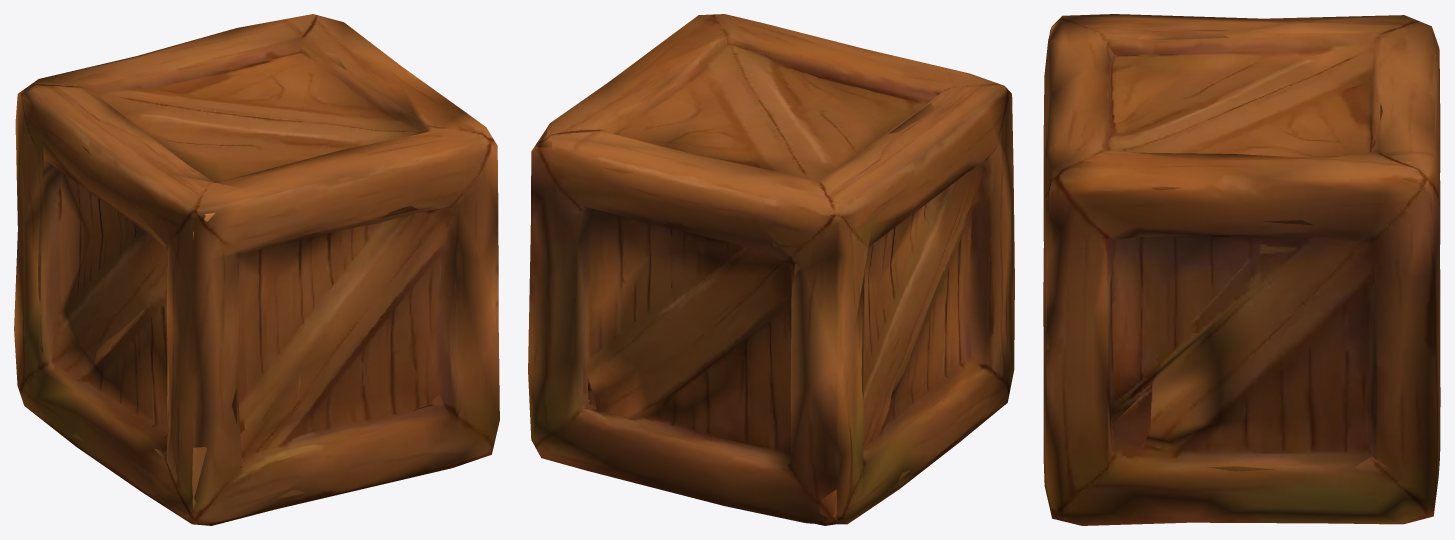
File: crate.glb
3 views of the same model, side by side, from view 1: azimuth 30°, elevation 25°; view 2: azimuth 150°, elevation 25°; view 3: azimuth 270°, elevation 25° (orthographic). The views are drawn at different scales.
Visible parts, largest first — view 1: geometry_0; view 2: geometry_0; view 3: geometry_0.
Boxes of the visible parts, left/top/right/bottom form: geometry_0: left=14, top=14, right=499, bottom=525; geometry_0: left=528, top=14, right=1014, bottom=525; geometry_0: left=1043, top=14, right=1440, bottom=525.
Size of the model in its own units: 0.8126 by 0.8 by 0.8119.
Materials: 1 (1 with a texture image).
